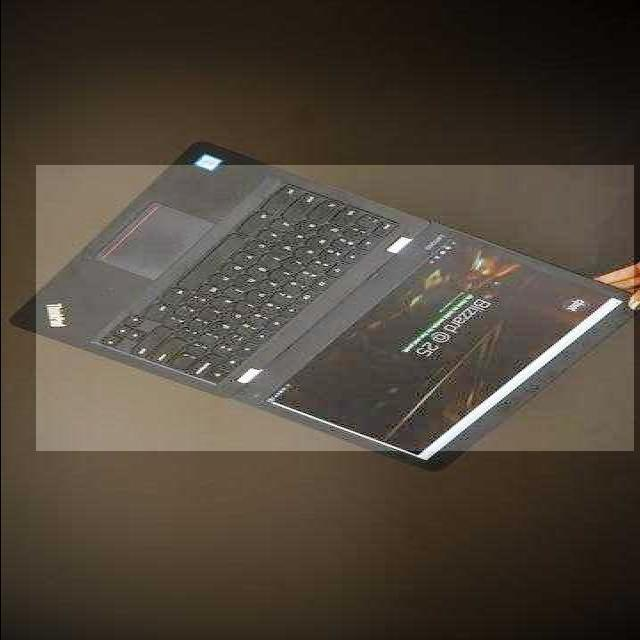-keyboard-: (36, 165, 634, 451)
